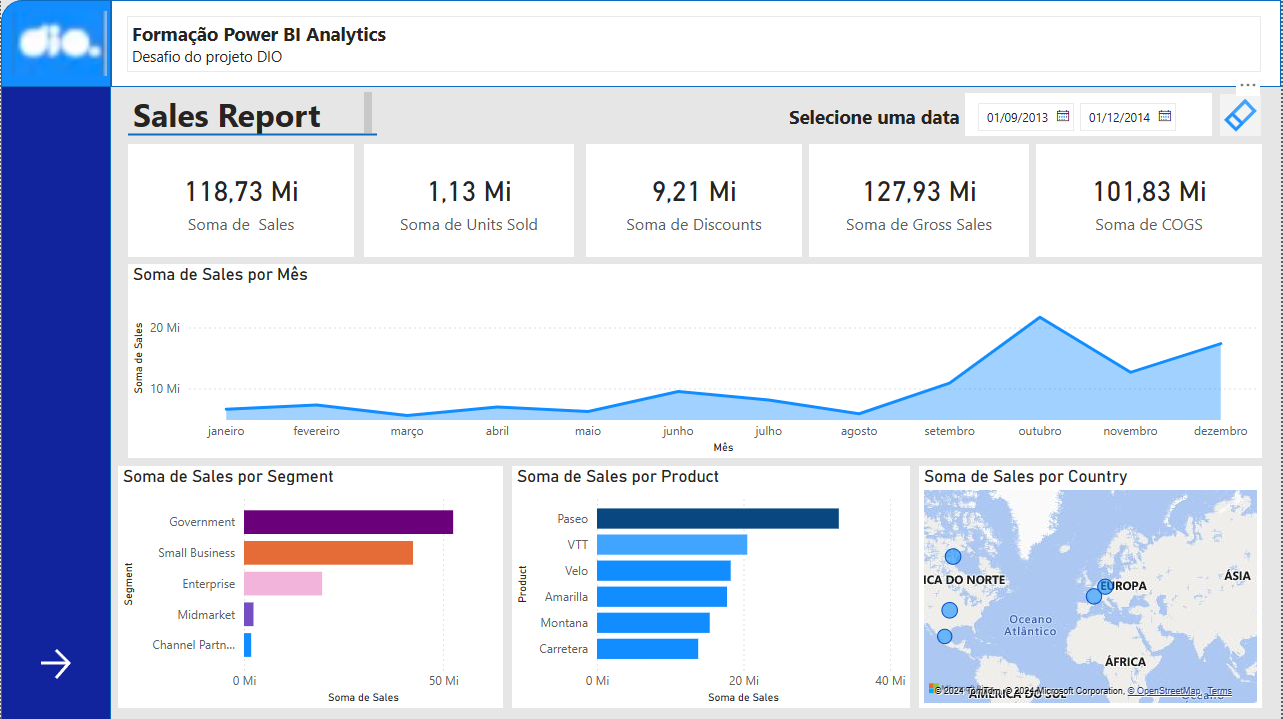

The page's visual inventory and layout, read from the dashboard file:
{"tool":"powerbi","page":{"name":"Página 1","canvas":[1280,720],"ordinal":0},"visuals":[{"type":"shape","box":[0,0,110,720],"z":0},{"type":"shape","box":[0,0,110,87],"z":1000},{"type":"image","box":[0,6,117,75],"z":2000},{"type":"actionButton","box":[34,644,42,40],"z":3000},{"type":"shape","box":[110,0,1170,87],"z":4000},{"type":"textbox","box":[127,87,249,52],"z":5000},{"type":"shape","box":[127,125,249,19],"z":6000},{"type":"textbox","box":[126,16,1134,56],"z":7000},{"type":"card","fields":{"Values":["Sum(financials. Sales)"]},"box":[127,144,226,113],"z":8000},{"type":"card","fields":{"Values":["Sum(financials.Units Sold)"]},"box":[363,144,210,113],"z":9000},{"type":"card","fields":{"Values":["Sum(financials.Discounts)"]},"box":[585,144,216,113],"z":10000},{"type":"card","fields":{"Values":["Sum(financials.Gross Sales)"]},"box":[808,144,220,113],"z":11000},{"type":"card","fields":{"Values":["Sum(financials.COGS)"]},"box":[1035,144,226,113],"z":12000},{"type":"slicer","fields":{"Values":["financials.Date"]},"box":[964,93,247,43],"z":13000},{"type":"areaChart","fields":{"Category":["financials.Date.Variation.Hierarquia de datas.Mês"],"Y":["Sum(financials. Sales)"]},"box":[127,264,1134,194],"z":14000},{"type":"barChart","fields":{"Category":["financials.Segment"],"Y":["Sum(financials. Sales)"]},"box":[117,466,385,242],"z":15000},{"type":"clusteredBarChart","fields":{"Y":["Sum(financials. Sales)"],"Category":["financials.Product"]},"box":[511,466,398,242],"z":16000},{"type":"map","fields":{"Size":["Sum(financials. Sales)"],"Category":["financials.Country"]},"box":[918,466,343,242],"z":17000},{"type":"textbox","box":[783,99,181,37],"z":18000},{"type":"actionButton","box":[1219,94,41,42],"z":19000}]}

Visuals, with their boxes on the page's 1280x720 design canvas (x1, y1, x2, y2). These are canvas units, not pixel positions in the 1283x719 screenshot, which may show the page scaled, cropped or inside an application window:
shape: box=[0, 0, 110, 720]
shape: box=[0, 0, 110, 87]
image: box=[0, 6, 117, 81]
actionButton: box=[34, 644, 76, 684]
shape: box=[110, 0, 1280, 87]
textbox: box=[127, 87, 376, 139]
shape: box=[127, 125, 376, 144]
textbox: box=[126, 16, 1260, 72]
card - Sum(financials. Sales): box=[127, 144, 353, 257]
card - Sum(financials.Units Sold): box=[363, 144, 573, 257]
card - Sum(financials.Discounts): box=[585, 144, 801, 257]
card - Sum(financials.Gross Sales): box=[808, 144, 1028, 257]
card - Sum(financials.COGS): box=[1035, 144, 1261, 257]
slicer - financials.Date: box=[964, 93, 1211, 136]
areaChart - financials.Date.Variation.Hierarquia de datas.Mês x Sum(financials. Sales): box=[127, 264, 1261, 458]
barChart - financials.Segment x Sum(financials. Sales): box=[117, 466, 502, 708]
clusteredBarChart - Sum(financials. Sales) x financials.Product: box=[511, 466, 909, 708]
map - Sum(financials. Sales) x financials.Country: box=[918, 466, 1261, 708]
textbox: box=[783, 99, 964, 136]
actionButton: box=[1219, 94, 1260, 136]
